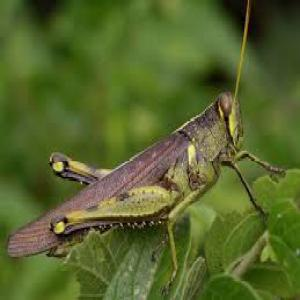locust: (7, 63, 265, 269)
